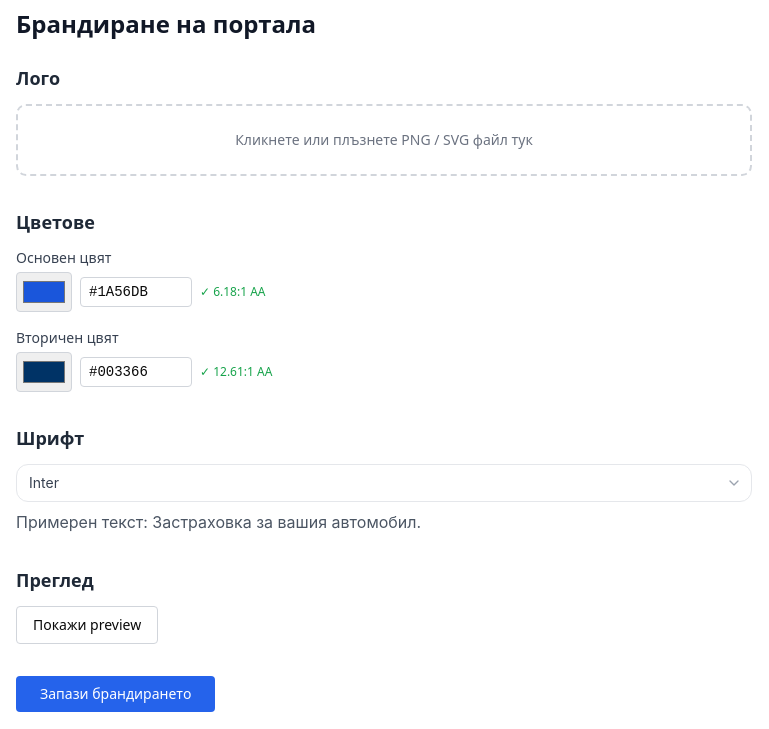
BrandingPage › shows success message after successful save
Click the button "Запази брандирането" at (116, 694), box [16,676,215,712]
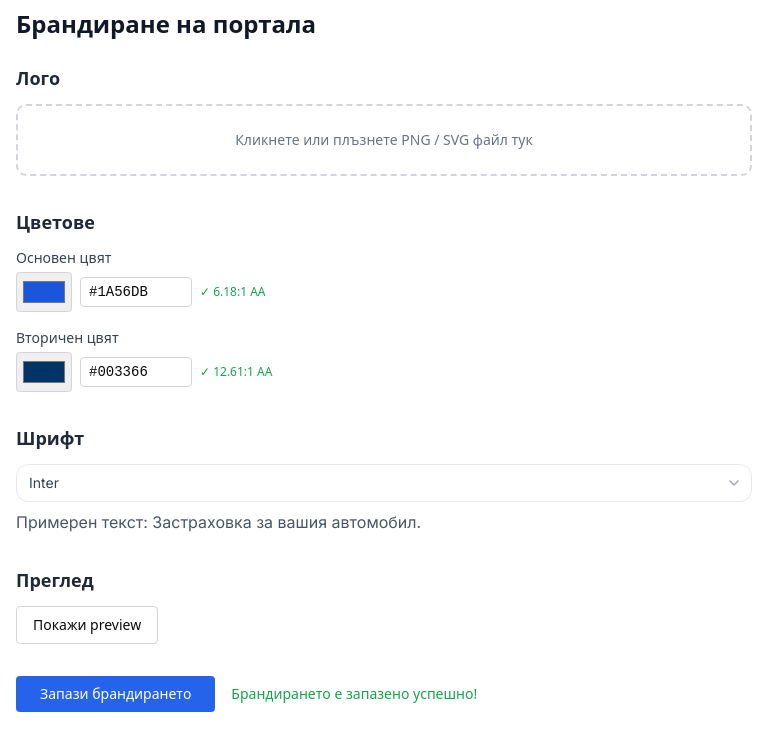
Expected: the text "Брандирането е запазено успешно!" is shown, [231,684,477,704]
